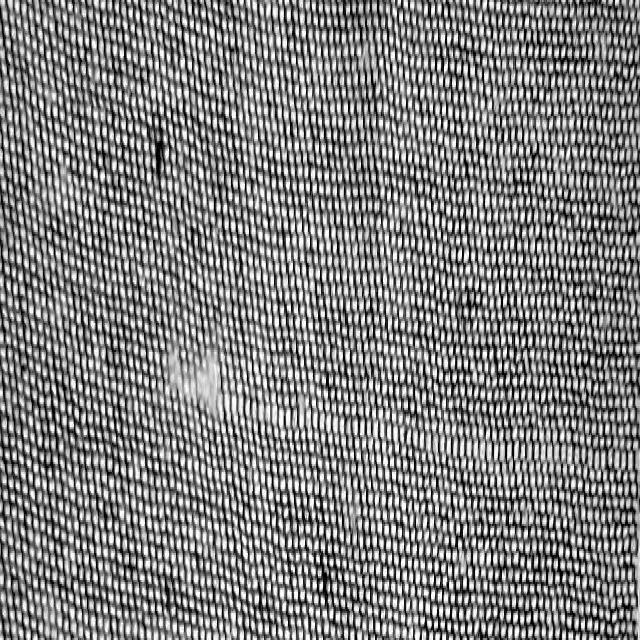Foreign_yarn: (155, 348, 640, 498)
